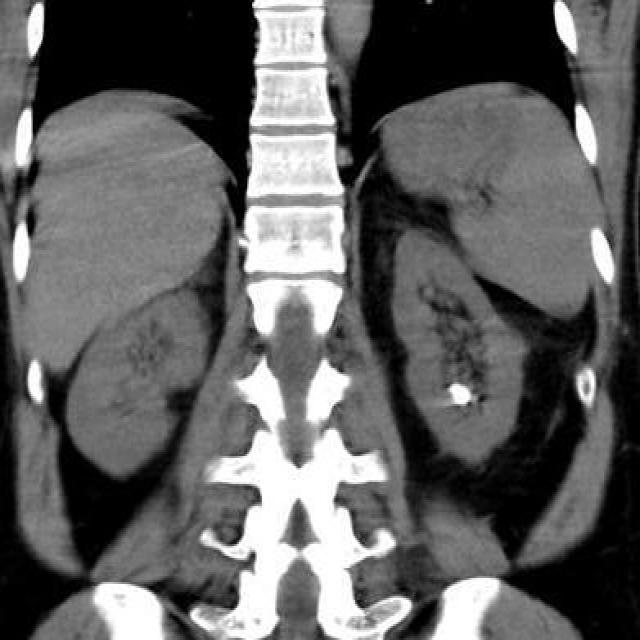Tas_Var: (446, 380, 476, 410)
